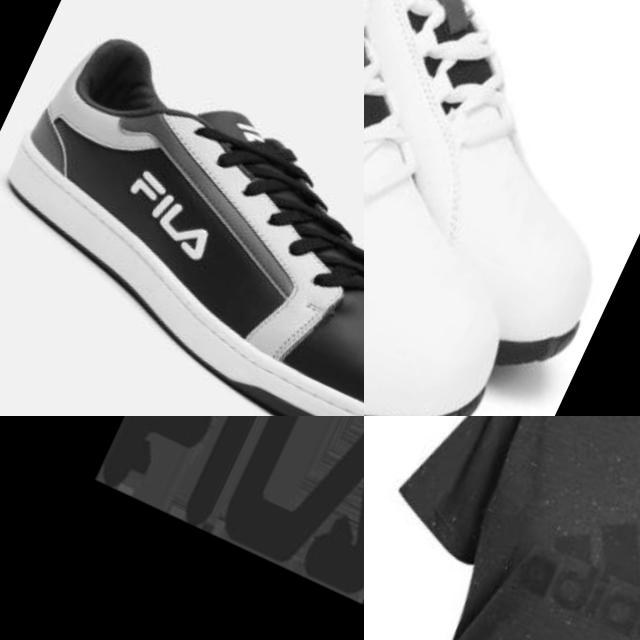ADIDAS_original: (490, 445, 640, 640)
FILA_original: (55, 416, 364, 640), (84, 146, 246, 294)
